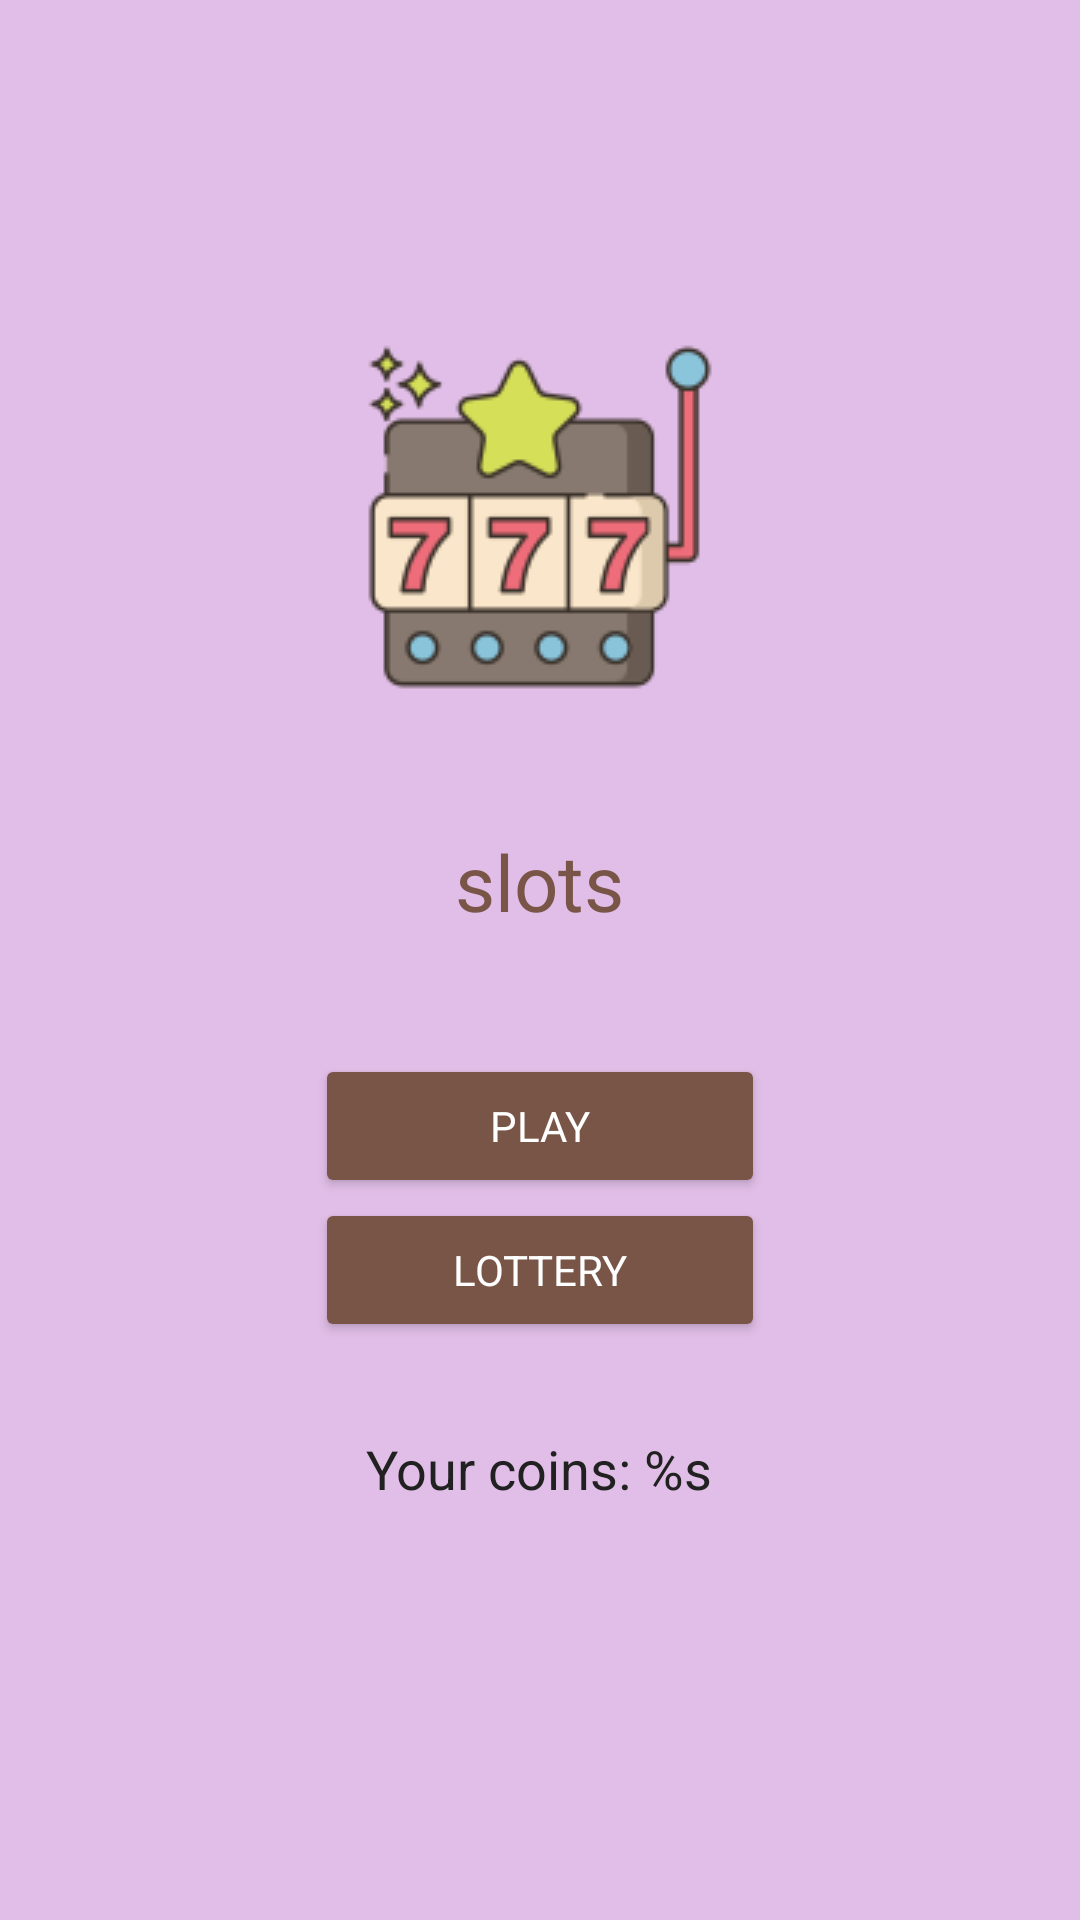

Point at icon controls on the screen. Image size 1080 × 1920, points as (x=x, y=y).
Icon App: (x=540, y=517)
